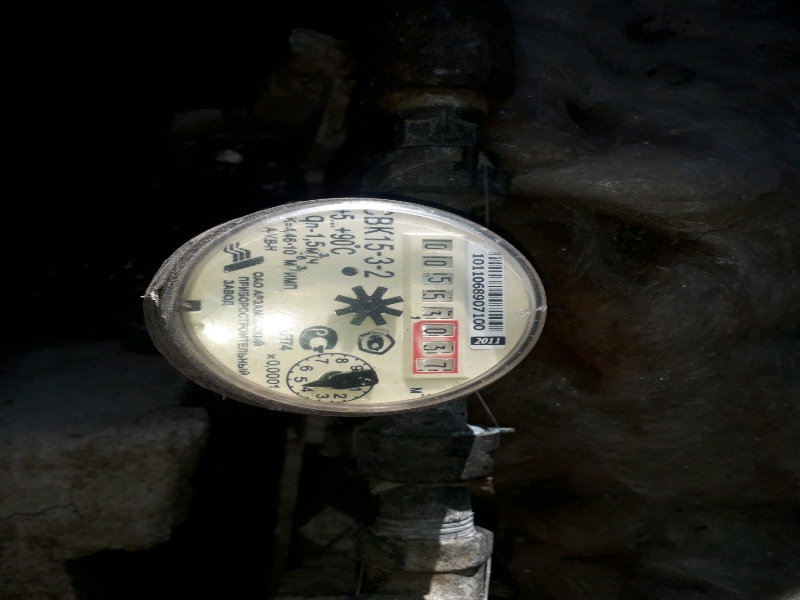meter: (418, 234, 456, 380)
